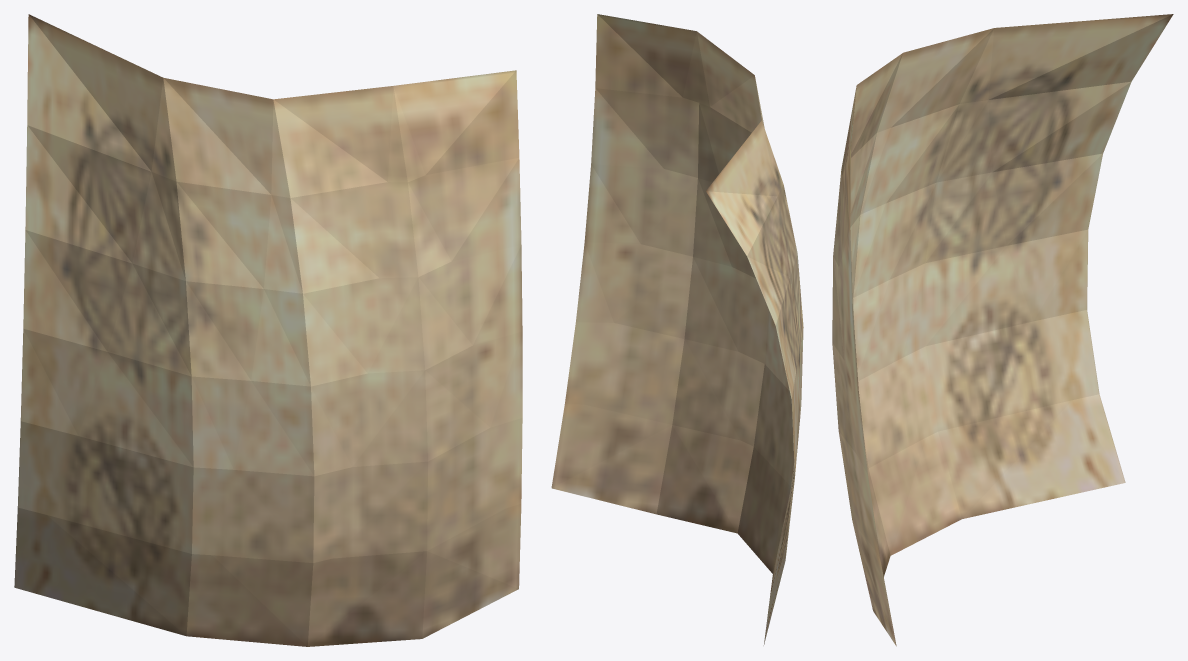
The model's file is book_03.FBX.
The picture shows the model from 3 angles, left to right: view 1: azimuth 30°, elevation 25°; view 2: azimuth 150°, elevation 25°; view 3: azimuth 270°, elevation 25°; orthographic projection. The views are drawn at different scales.
Visible parts, largest first — view 1: book_03; view 2: book_03; view 3: book_03.
Part boxes in pixels (<box>): book_03: <box>14,14,522,646</box>; book_03: <box>551,14,803,645</box>; book_03: <box>832,14,1173,646</box>.
Size of the model in its own units: 12.87 by 17.86 by 10.86.
